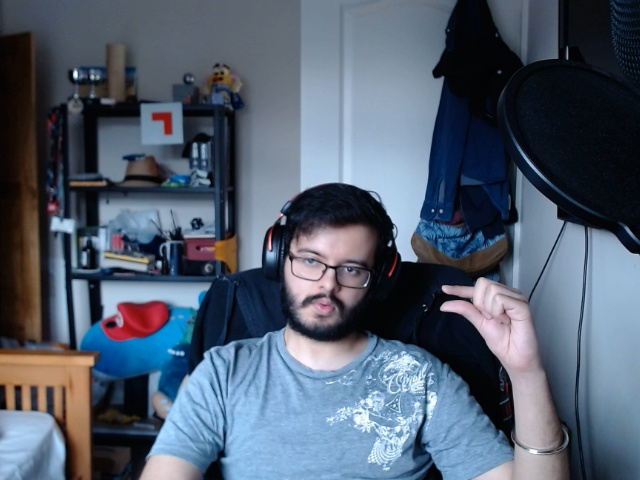Small: (434, 272, 546, 370)
